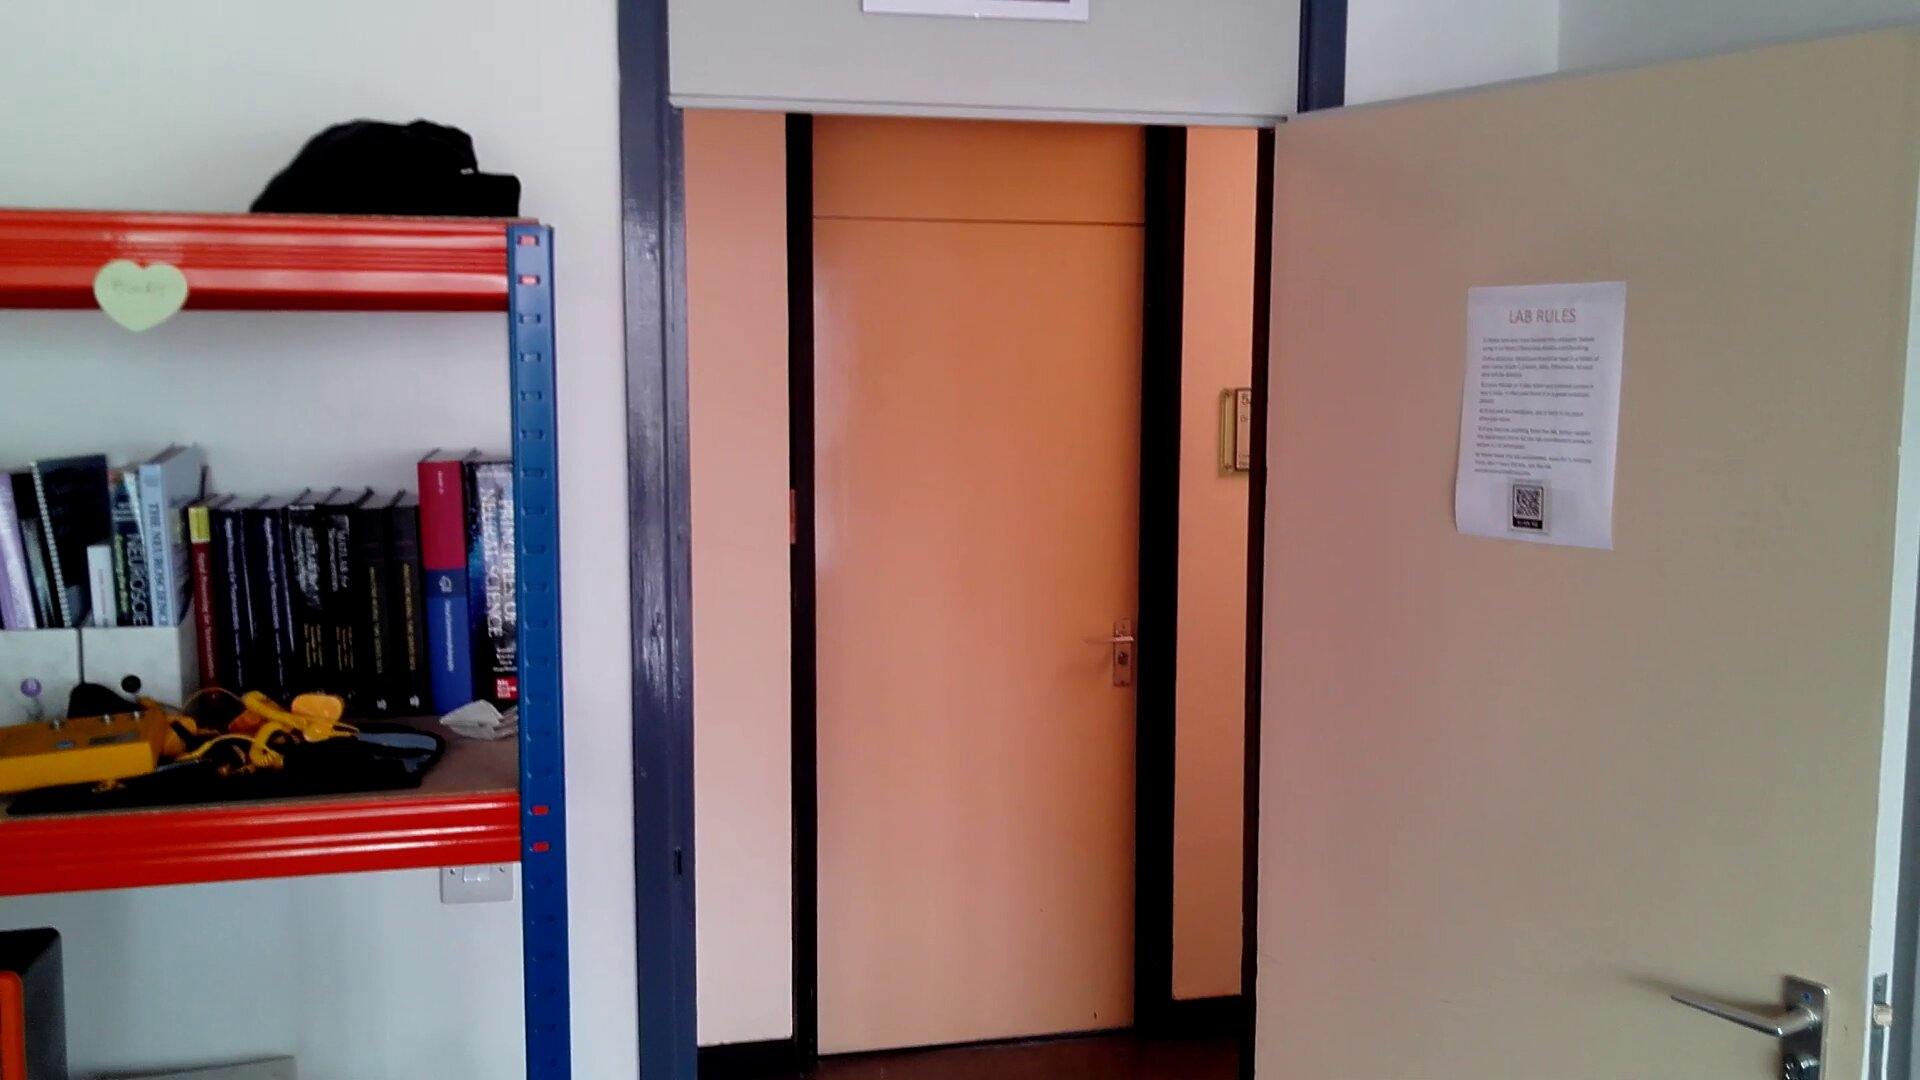Door: (1261, 102, 1920, 1080), (778, 207, 1185, 1047)
